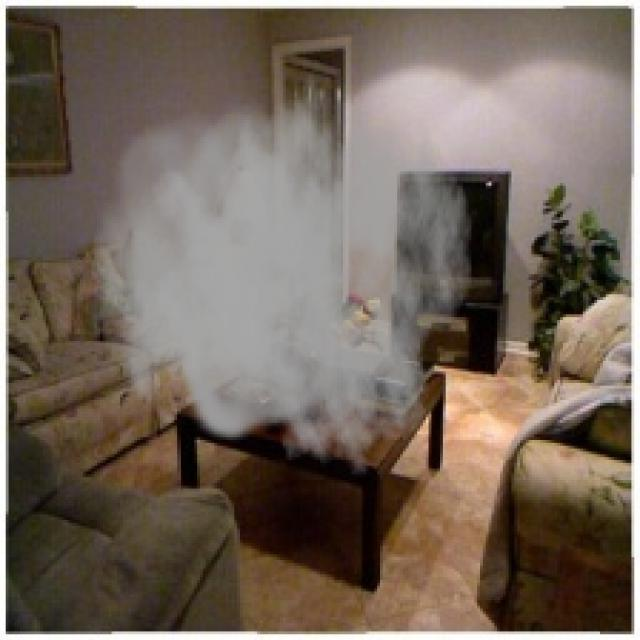Smoke: (94, 52, 474, 477)
